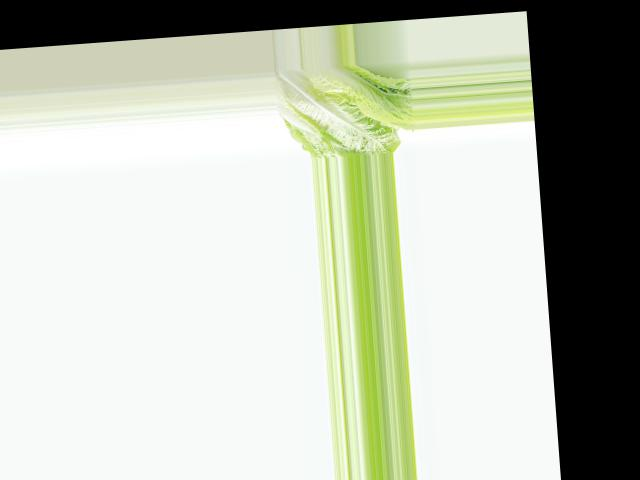lettuce: (274, 60, 417, 160)
